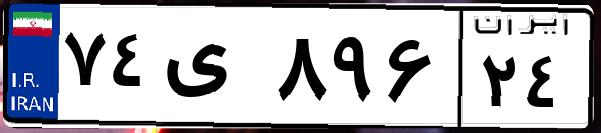2: (475, 38, 525, 113)
4: (525, 38, 570, 115), (110, 28, 158, 98)
6: (385, 28, 445, 110)
7: (57, 26, 110, 100)
8: (270, 28, 330, 110)
9: (330, 28, 385, 110)
ی: (158, 20, 270, 120)
